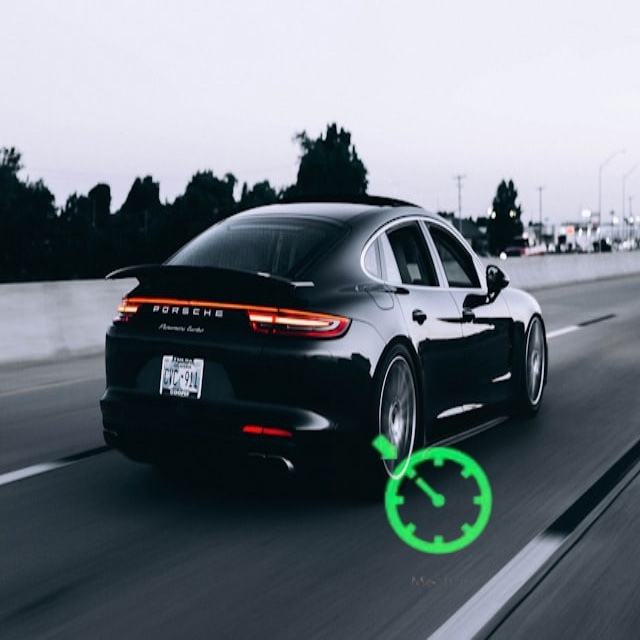symbol: (330, 394, 534, 598)
